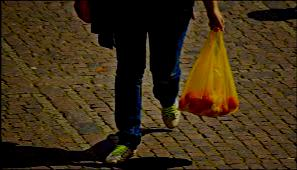Plastic: (185, 23, 243, 126)
